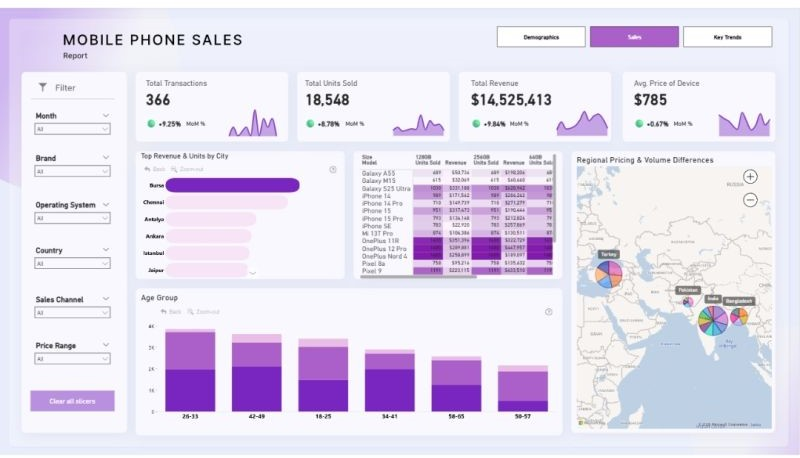

The dashboard page shown, as its layout file describes it:
{"tool":"powerbi","page":{"name":"Sales","canvas":[1920,1080],"ordinal":0},"visuals":[{"type":"textbox","title":"Filter","box":[334.7,161.3,370.7,168],"z":1000},{"type":"textbox","title":"Filter","box":[726.7,161.3,370.7,168],"z":2000},{"type":"textbox","title":"Filter","box":[1118.7,161.3,370.7,168],"z":3000},{"type":"textbox","box":[164,57,616,76],"z":4000,"group":"g1"},{"type":"textbox","title":"Filter","box":[1510.7,160,377.3,168],"z":4000},{"type":"textbox","title":"Filter","box":[824,728,532,298.7],"z":5000},{"type":"textbox","title":"Filter","box":[1384,728,508,298.7],"z":6000},{"type":"textbox","title":"Filter","box":[334.7,726.7,460,298.7],"z":7000},{"type":"textbox","title":"Filter","box":[1130.7,352,757.3,353.3],"z":8000},{"type":"textbox","title":"Filter","box":[334.7,352,762.7,353.3],"z":9000},{"type":"textbox","title":"Filter","box":[58.7,161.3,249.3,864],"z":10000},{"type":"funnel","title":"Total Revenue","fields":{"Category":["Fact_Sales.Transaction_Date.Variation.Date Hierarchy.Quarter"],"Y":["ToggleTable.Revenue_Quarter"]},"box":[357.3,370.7,733.3,314.7],"z":11000},{"type":"slicer","fields":{"Values":["Dim_Products.Brand"]},"box":[88.5,257.2,192.9,71.8],"z":12000},{"type":"slicer","fields":{"Values":["Dim_Products.Operating_System"]},"box":[87.4,481.7,194.2,70.5],"z":13000},{"type":"slicer","fields":{"Values":["Dim_Products.Storage_Size"]},"box":[87.9,593.3,193.7,70.5],"z":14000},{"type":"slicer","fields":{"Values":["Dim_Products.Color"]},"box":[87.9,705,193.7,70.5],"z":15000},{"type":"slicer","fields":{"Values":["Dim_Products.Mobile_Model"]},"box":[87.9,370.1,193.7,70.5],"z":16000},{"type":"slicer","fields":{"Values":["Dim_Locations.Country"]},"box":[88.5,816.6,194.2,70],"z":17000},{"type":"actionButton","box":[102.4,939,164.9,39.9],"z":20000},{"type":"cardVisual","fields":{"Data":["Fact_Sales.Total Revenue","Fact_Sales.Total Units Sold","Fact_Sales.Average Price Per Unit","Fact_Sales.Total Transactions"]},"box":[334.7,168,1553.3,161.3],"z":22000},{"type":"clusteredBarChart","title":"Sales Channel - Total Revenue & Total Units Sold","fields":{"Category":["Fact_Sales.Sales_Channel"],"Y":["Sum(Fact_Sales.Total_Revenue)","Sum(Fact_Sales.Units_Sold)"]},"box":[348,740,432,302.7],"z":23000},{"type":"lineChart","title":"Total Revenue","fields":{"Category":["Fact_Sales.Transaction_Date.Variation.Date Hierarchy.Month"],"Y":["ToggleTable.Revenue_Month"]},"box":[357.3,370.7,733.3,334.7],"z":24000},{"type":"columnChart","title":"Total Units Sold","fields":{"Category":["Fact_Sales.Transaction_Date.Variation.Date Hierarchy.Quarter"],"Y":["ToggleTable.UnitsSold_Quarter"]},"box":[1148,370.7,725.3,324],"z":25000},{"type":"lineChart","title":"Total Units Sold","fields":{"Category":["Fact_Sales.Transaction_Date.Variation.Date Hierarchy.Month"],"Y":["ToggleTable.UnitsSold_Month"]},"box":[1148,370.7,725.3,334.7],"z":26000},{"type":"slicer","fields":{"Values":["ToggleTable.ViewBy"]},"box":[1772,369.3,101.3,70.7],"z":27000},{"type":"clusteredBarChart","title":"Payment Type - Total Revenue & Total Units Sold","fields":{"Y":["Sum(Fact_Sales.Total_Revenue)","Sum(Fact_Sales.Units_Sold)"],"Category":["Fact_Sales.Payment_Type"]},"box":[838.7,740,500,296],"z":28000},{"type":"clusteredBarChart","title":"Country - Total Revenue & Total Units Sold","fields":{"Y":["Sum(Fact_Sales.Total_Revenue)","Sum(Fact_Sales.Units_Sold)"],"Category":["Dim_Locations.Country"]},"box":[1393.3,740,480,282.7],"z":29000},{"type":"shape","box":[72,166.7,221.3,150.7],"z":30000},{"type":"slicer","fields":{"Values":["ToggleTable.ViewBy"]},"box":[989.3,369.3,101.3,70.7],"z":31000},{"type":"group","id":"g1","title":"Group 1","box":[164,57,616,76],"z":32000},{"type":"PBI_CV_25997FEB_F466_44FA_B562_AC4063283C4C","fields":{"axis":["Fact_Sales.Transaction_Date.Variation.Date Hierarchy.Month"],"measure":["Sum(Fact_Sales.Total_Revenue)"]},"box":[528.2,241.7,177.9,86.9],"z":33000},{"type":"PBI_CV_25997FEB_F466_44FA_B562_AC4063283C4C","fields":{"axis":["Fact_Sales.Transaction_Date.Variation.Date Hierarchy.Month"],"measure":["Sum(Fact_Sales.Units_Sold)"]},"box":[918.4,241.7,178.6,87.3],"z":34000},{"type":"PBI_CV_25997FEB_F466_44FA_B562_AC4063283C4C","fields":{"axis":["Fact_Sales.Transaction_Date.Variation.Date Hierarchy.Month"],"measure":["Sum(Fact_Sales.Price)"]},"box":[1303.7,241.7,178.6,87.3],"z":35000},{"type":"PBI_CV_25997FEB_F466_44FA_B562_AC4063283C4C","fields":{"axis":["Fact_Sales.Transaction_Date.Variation.Date Hierarchy.Month"],"measure":["Count(Fact_Sales.Transaction_ID)"]},"box":[1696,242,177.9,86.9],"z":36000},{"type":"actionButton","box":[1524.9,62.7,165.3,40],"z":37000},{"type":"actionButton","box":[1148,64,165.3,40],"z":38000},{"type":"actionButton","box":[1713.3,62.7,165.3,40],"z":39000},{"type":"actionButton","box":[1336.4,64,165.3,40],"z":40000},{"type":"image","box":[0,49.3,217.3,84],"z":40001},{"type":"image","box":[109.3,189.3,76,26.7],"z":40002}]}

Visuals, with their boxes in screenshot pixels (x1, y1, x2, y2), scaled from the page's 1920x1080 canvas onto the 800x458 screenshot:
"Filter" textbox: (x1=139, y1=68, x2=294, y2=140)
"Filter" textbox: (x1=303, y1=68, x2=457, y2=140)
"Filter" textbox: (x1=466, y1=68, x2=621, y2=140)
textbox: (x1=68, y1=24, x2=325, y2=56)
"Filter" textbox: (x1=629, y1=68, x2=787, y2=139)
"Filter" textbox: (x1=343, y1=309, x2=565, y2=435)
"Filter" textbox: (x1=577, y1=309, x2=788, y2=435)
"Filter" textbox: (x1=139, y1=308, x2=331, y2=435)
"Filter" textbox: (x1=471, y1=149, x2=787, y2=299)
"Filter" textbox: (x1=139, y1=149, x2=457, y2=299)
"Filter" textbox: (x1=24, y1=68, x2=128, y2=435)
"Total Revenue" funnel: (x1=149, y1=157, x2=454, y2=291)
slicer - Dim_Products.Brand: (x1=37, y1=109, x2=117, y2=140)
slicer - Dim_Products.Operating_System: (x1=36, y1=204, x2=117, y2=234)
slicer - Dim_Products.Storage_Size: (x1=37, y1=252, x2=117, y2=282)
slicer - Dim_Products.Color: (x1=37, y1=299, x2=117, y2=329)
slicer - Dim_Products.Mobile_Model: (x1=37, y1=157, x2=117, y2=187)
slicer - Dim_Locations.Country: (x1=37, y1=346, x2=118, y2=376)
actionButton: (x1=43, y1=398, x2=111, y2=415)
cardVisual - Fact_Sales.Total Revenue x Fact_Sales.Total Units Sold: (x1=139, y1=71, x2=787, y2=140)
"Sales Channel - Total Revenue & Total Units Sold" clusteredBarChart: (x1=145, y1=314, x2=325, y2=442)
"Total Revenue" lineChart: (x1=149, y1=157, x2=454, y2=299)
"Total Units Sold" columnChart: (x1=478, y1=157, x2=781, y2=295)
"Total Units Sold" lineChart: (x1=478, y1=157, x2=781, y2=299)
slicer - ToggleTable.ViewBy: (x1=738, y1=157, x2=781, y2=187)
"Payment Type - Total Revenue & Total Units Sold" clusteredBarChart: (x1=349, y1=314, x2=558, y2=439)
"Country - Total Revenue & Total Units Sold" clusteredBarChart: (x1=581, y1=314, x2=781, y2=434)
shape: (x1=30, y1=71, x2=122, y2=135)
slicer - ToggleTable.ViewBy: (x1=412, y1=157, x2=454, y2=187)
"Group 1" group: (x1=68, y1=24, x2=325, y2=56)
PBI_CV_25997FEB_F466_44FA_B562_AC4063283C4C - Fact_Sales.Transaction_Date.Variation.Date Hierarchy.Month x Sum(Fact_Sales.Total_Revenue): (x1=220, y1=102, x2=294, y2=139)
PBI_CV_25997FEB_F466_44FA_B562_AC4063283C4C - Fact_Sales.Transaction_Date.Variation.Date Hierarchy.Month x Sum(Fact_Sales.Units_Sold): (x1=383, y1=102, x2=457, y2=140)
PBI_CV_25997FEB_F466_44FA_B562_AC4063283C4C - Fact_Sales.Transaction_Date.Variation.Date Hierarchy.Month x Sum(Fact_Sales.Price): (x1=543, y1=102, x2=618, y2=140)
PBI_CV_25997FEB_F466_44FA_B562_AC4063283C4C - Fact_Sales.Transaction_Date.Variation.Date Hierarchy.Month x Count(Fact_Sales.Transaction_ID): (x1=707, y1=103, x2=781, y2=139)
actionButton: (x1=635, y1=27, x2=704, y2=44)
actionButton: (x1=478, y1=27, x2=547, y2=44)
actionButton: (x1=714, y1=27, x2=783, y2=44)
actionButton: (x1=557, y1=27, x2=626, y2=44)
image: (x1=0, y1=21, x2=91, y2=57)
image: (x1=46, y1=80, x2=77, y2=92)
